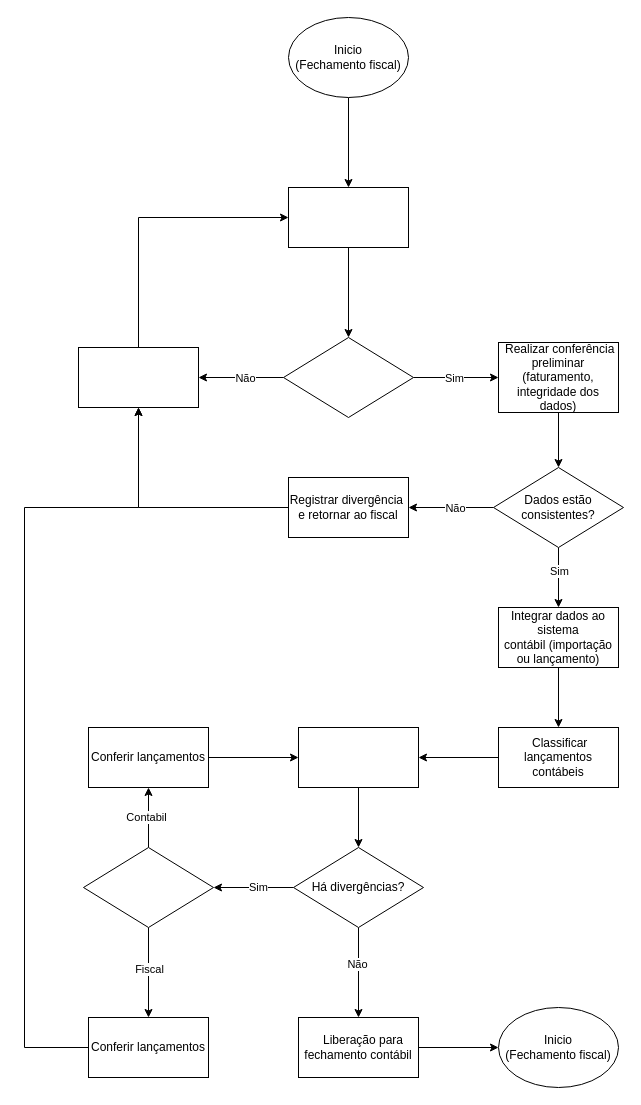
This 641x1105 diagram has some shape labels left out. The shapes that lost their labels are listed below. From the top down, each one's box as (x1, y1, x2, y2) in pixels, then its label:
(288, 186, 408, 248): Receber informações do setor fiscal (relatórios, faturamento, tributos)
(78, 346, 198, 408): Aguardar conclusão fiscal
(282, 336, 414, 418): Fiscal está finalizado e validado?
(298, 726, 418, 788): Conferência Fiscal x Contábil
(82, 846, 214, 928): Fiscal ou contabil?
